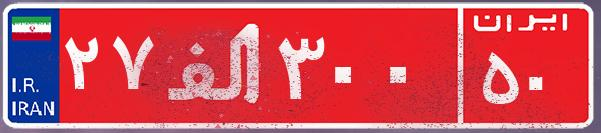0: (385, 28, 445, 110), (330, 28, 385, 110), (525, 38, 570, 115)
2: (57, 26, 110, 107)
3: (273, 28, 330, 110)
5: (475, 38, 525, 113)
7: (110, 28, 158, 105)
الف: (158, 15, 273, 115)
